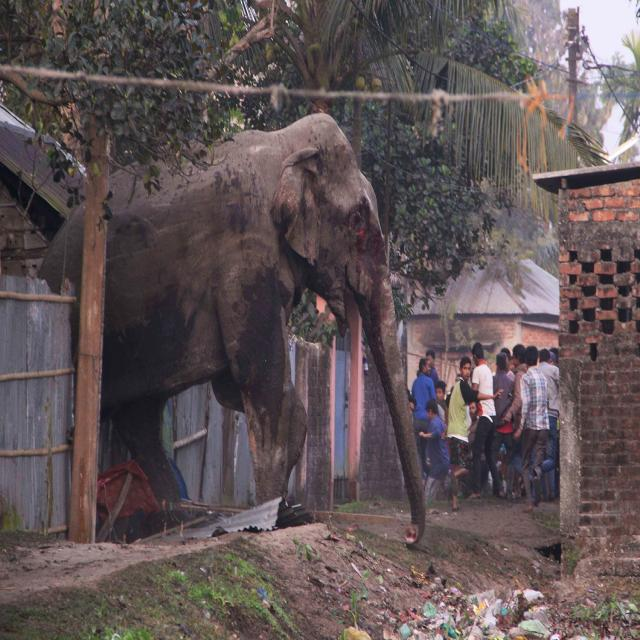Elephant: (38, 100, 442, 562)
